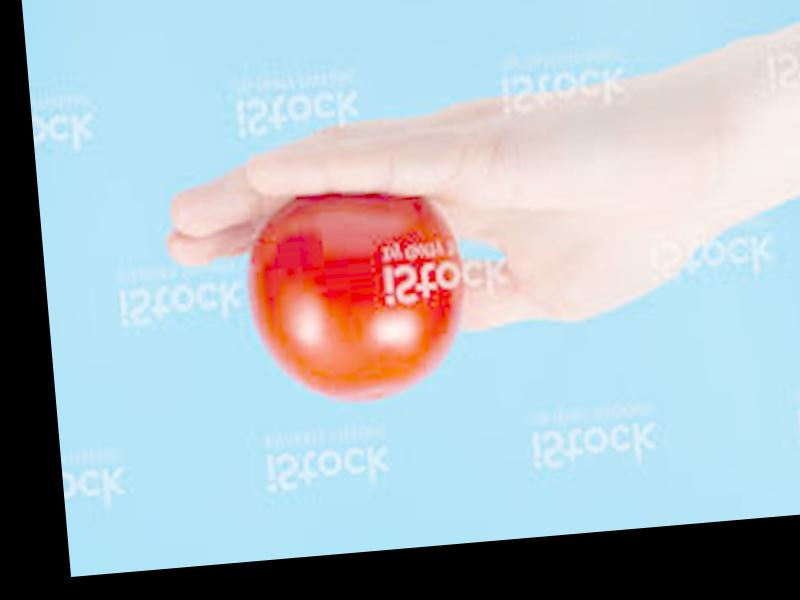Tomato: (241, 185, 469, 405)
